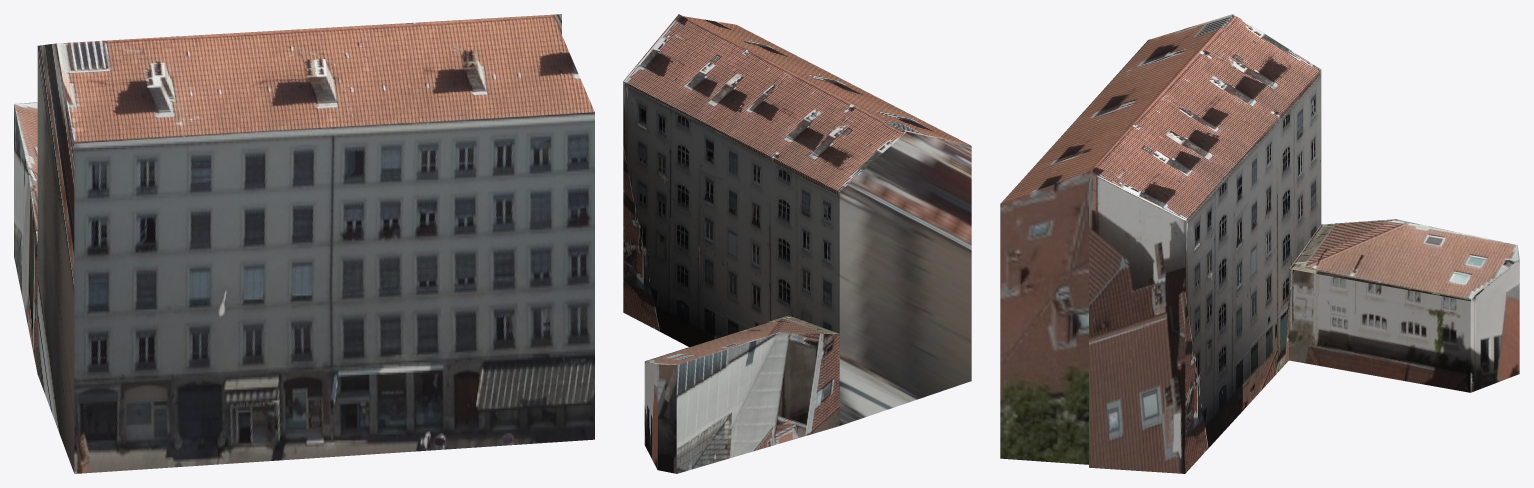
3 renders of one model, left to right at view 1: azimuth 30°, elevation 25°; view 2: azimuth 150°, elevation 25°; view 3: azimuth 270°, elevation 25°, orthographic. The views are drawn at different scales.
Parts seen in each view (by area): view 1: Z_UP; view 2: Z_UP; view 3: Z_UP.
Boxes of the visible parts, x1=… form: Z_UP: x1=14, y1=14, x2=594, y2=473; Z_UP: x1=623, y1=14, x2=971, y2=473; Z_UP: x1=1000, y1=14, x2=1519, y2=473.
Size of the model in its own units: 31.3 by 24.49 by 38.81.
Materials: 2 (1 with a texture image).
